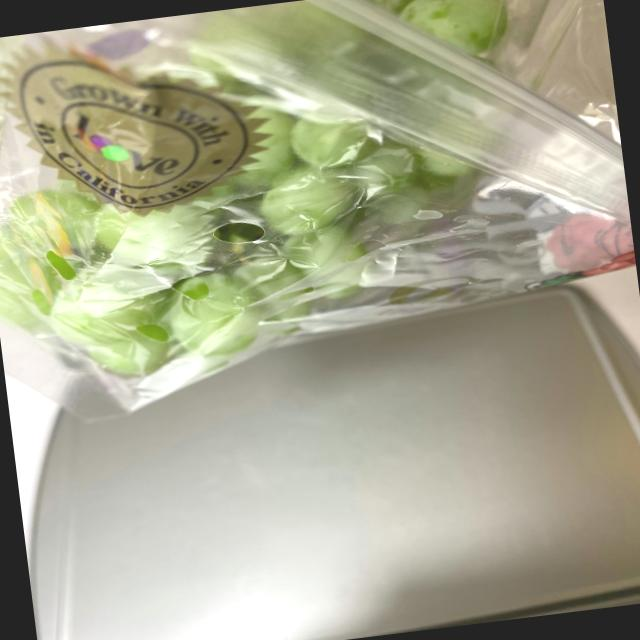grapes: (0, 0, 548, 387)
